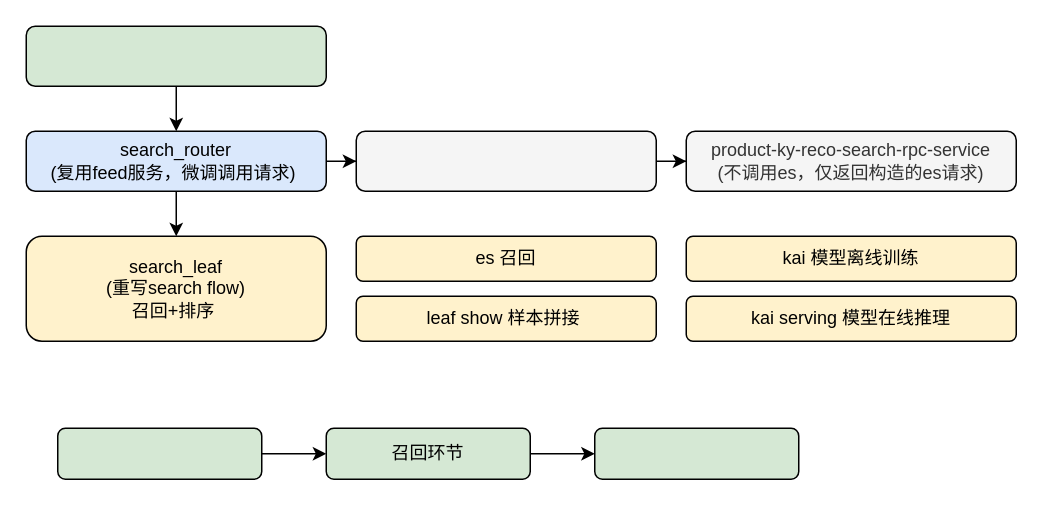
The diagram is 1043 pixels wide and 506 high, and some of its shapes have lost their labels. Here are the shapes that lost their labels. From the top down, the centre of each, then its label:
At point (175, 55): "api_newproduct-kuaiying-server".
At point (505, 160): "product-ky-reco-search-leaf-server （仅作中间层构造请求，传递结果）".
At point (159, 453): "画像处理".
At point (696, 453): "排序环节".
